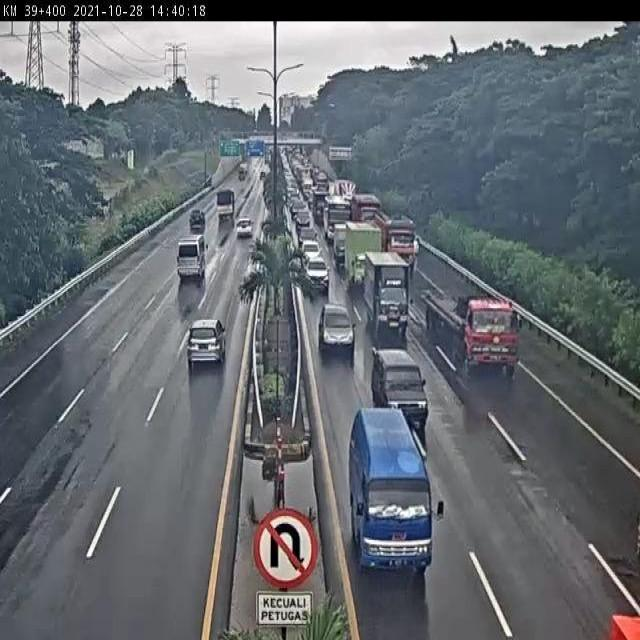bus-s-: (347, 404, 435, 580)
car: (371, 346, 430, 434), (185, 314, 227, 369), (317, 304, 355, 357), (301, 257, 332, 295), (300, 240, 325, 269)
small bus: (173, 235, 207, 281)
truck-l-: (377, 212, 418, 276)
truck-m-: (363, 254, 408, 338), (342, 220, 381, 295)
truck-s-: (331, 223, 352, 264)
truck-xl-: (420, 282, 520, 378)
